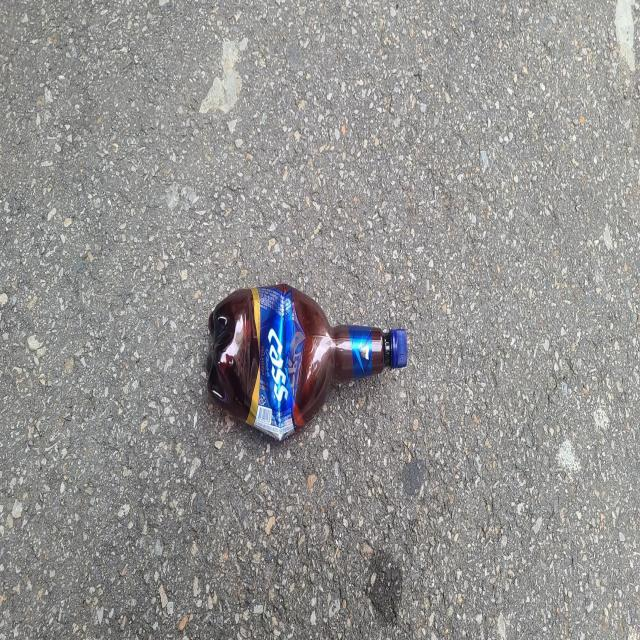plastic: (206, 284, 408, 440)
